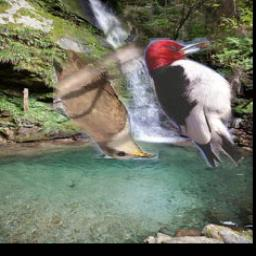Cuckoo: (52, 6, 157, 161)
Woodpecker: (144, 39, 246, 168)
